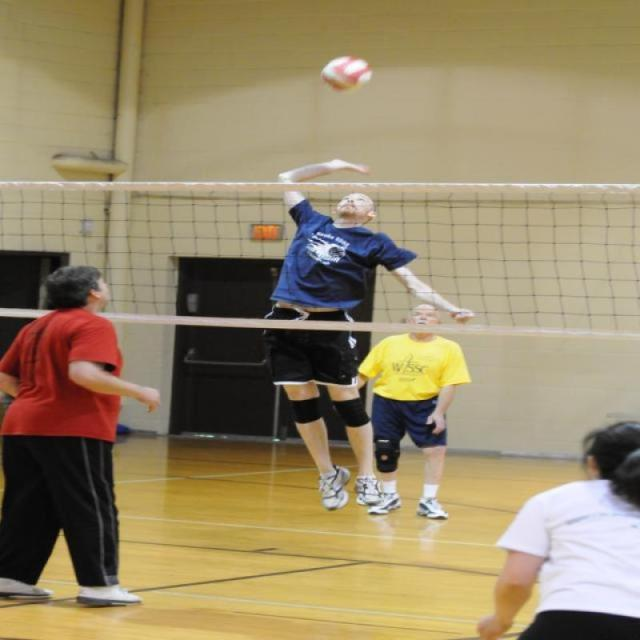volleyball: (315, 55, 373, 91)
